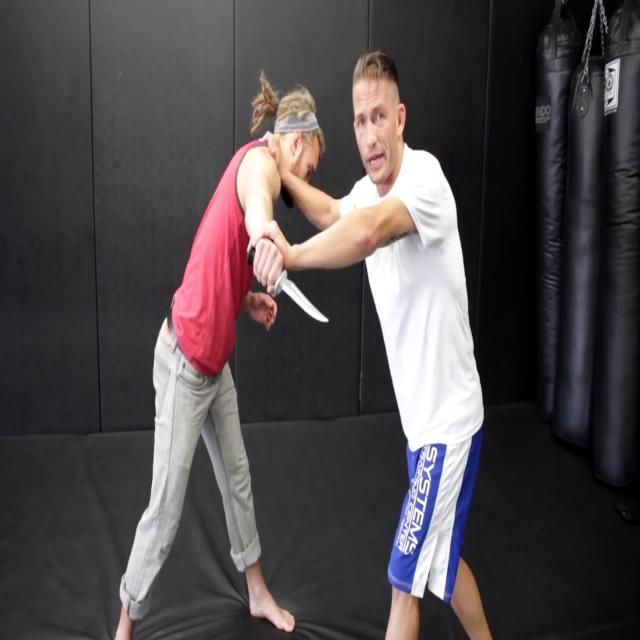knife: (279, 271, 333, 328)
